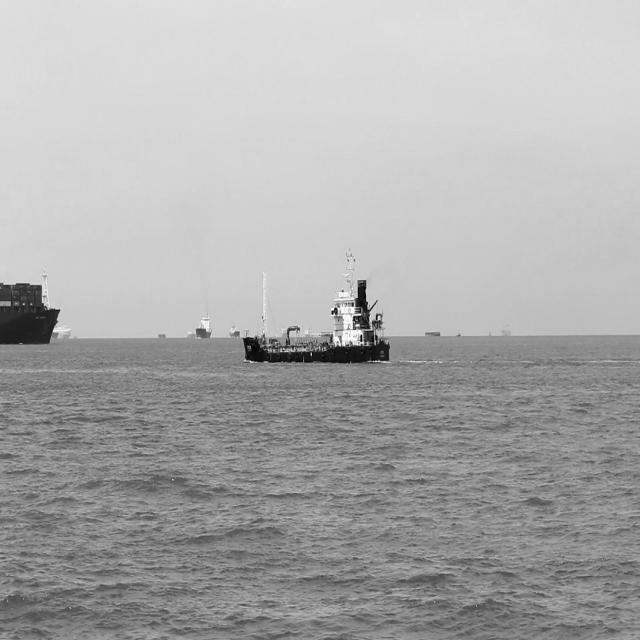ship: (242, 242, 397, 368), (1, 259, 62, 350), (197, 308, 215, 342), (227, 320, 242, 343), (424, 323, 442, 341), (500, 319, 515, 339), (156, 326, 170, 344), (185, 327, 197, 344)
